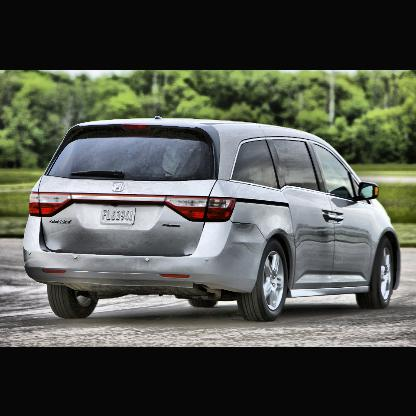Honda Odyssey Minivan 2012: (19, 114, 405, 324)
